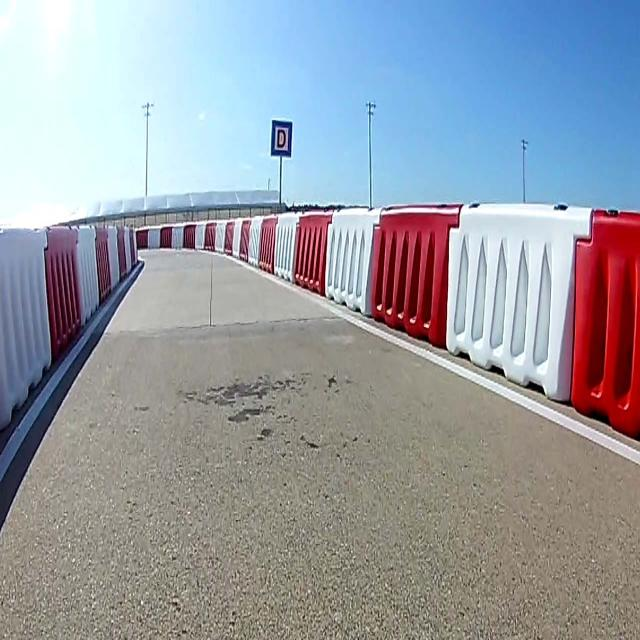durak: (271, 120, 292, 156)
